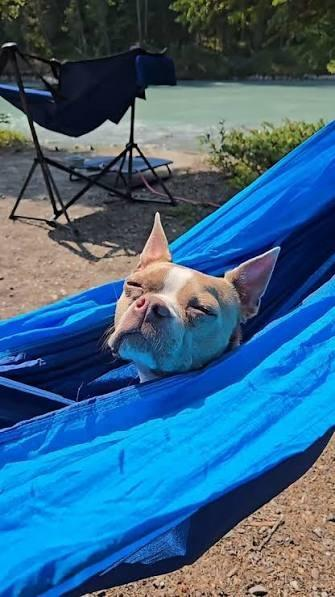adult_dog: (62, 212, 284, 395)
